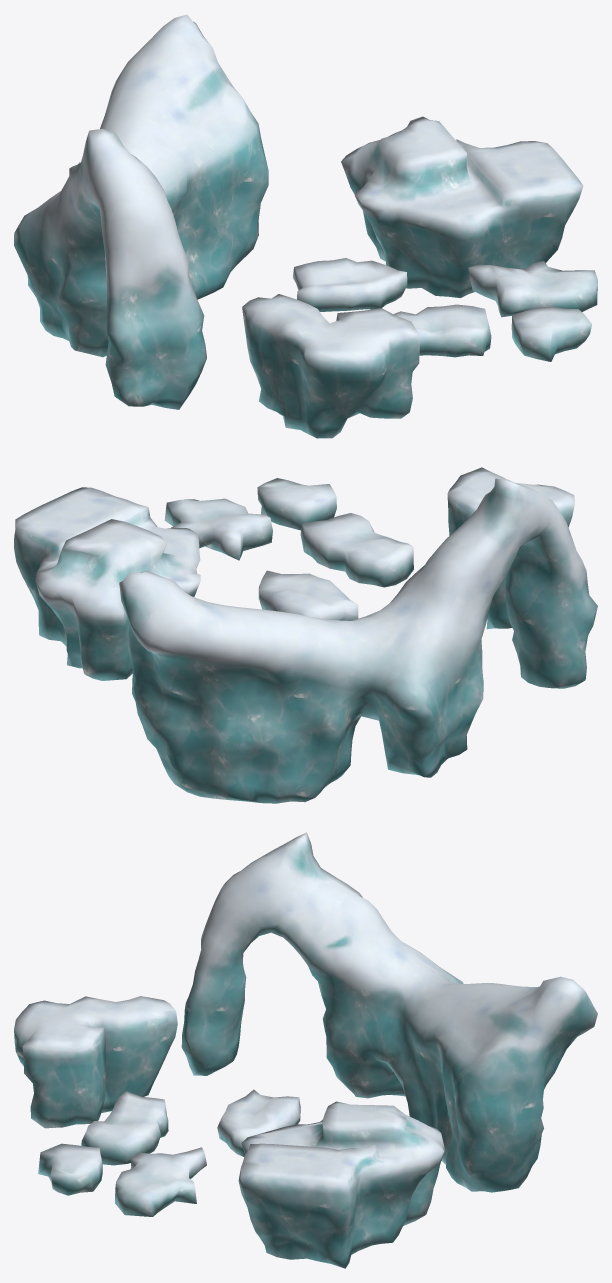
File: glacier.glb
The picture shows the model from 3 angles, top to bottom: view 1: azimuth 30°, elevation 25°; view 2: azimuth 150°, elevation 25°; view 3: azimuth 270°, elevation 25°; orthographic projection. The views are drawn at different scales.
Visible parts, largest first — view 1: Ice Field_LP_Ice_0; view 2: Ice Field_LP_Ice_0; view 3: Ice Field_LP_Ice_0.
Boxes of the visible parts, x1=… form: Ice Field_LP_Ice_0: x1=14, y1=14, x2=597, y2=438; Ice Field_LP_Ice_0: x1=14, y1=467, x2=597, y2=803; Ice Field_LP_Ice_0: x1=14, y1=832, x2=597, y2=1268.
Size of the model in its own units: 21.4 by 11.17 by 22.66.
Materials: 1 (1 with a texture image).
